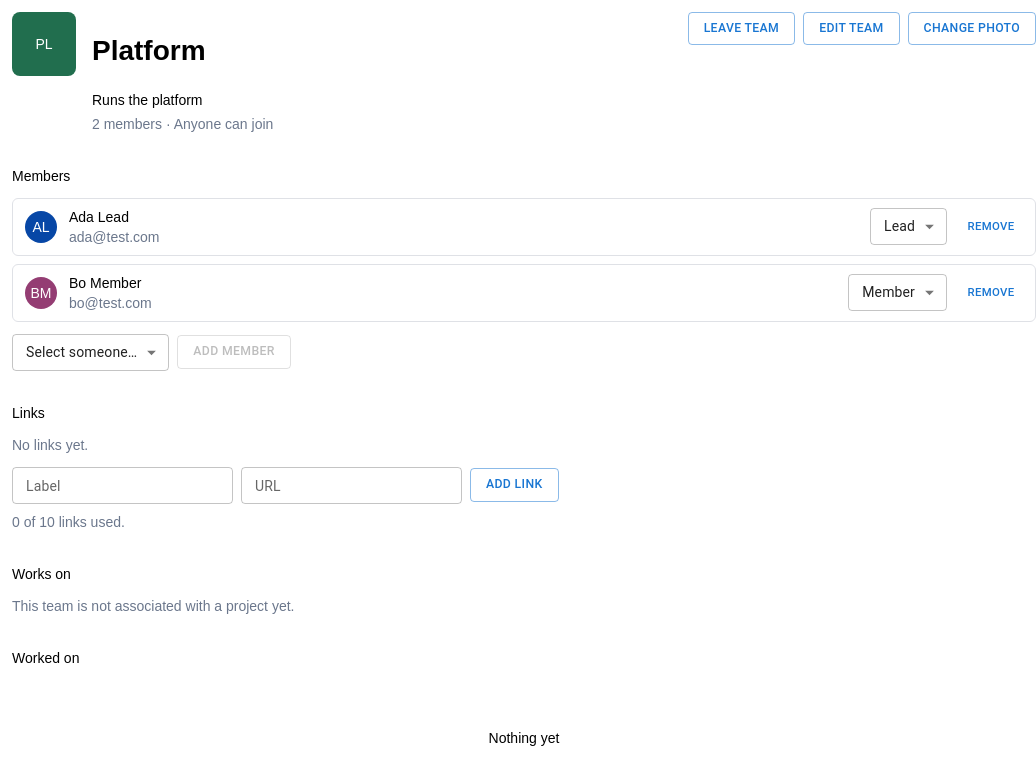
JL-434 — links, the cap and URL sanitisation › surfaces the server 409 if the cap is hit anyway, rather than swallowing it
Type "x" into the field labelled "Label" at (122, 485), box [12, 467, 233, 504]
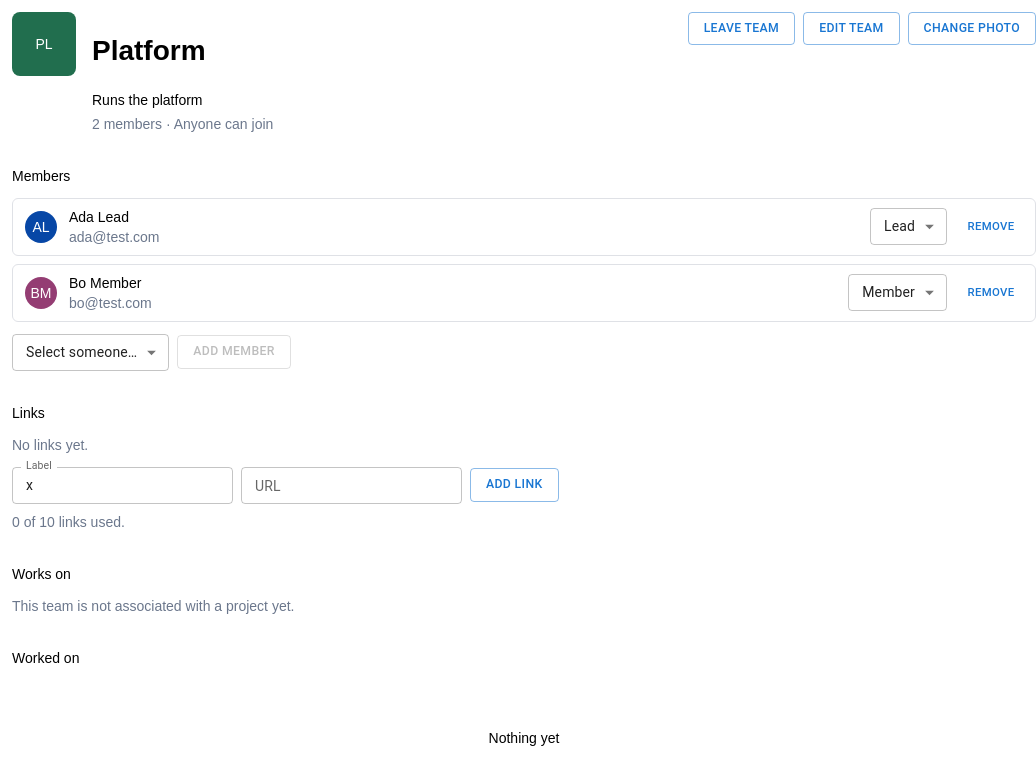
Type "https://a.test" into the field labelled "URL" at (352, 485), box [241, 467, 462, 504]
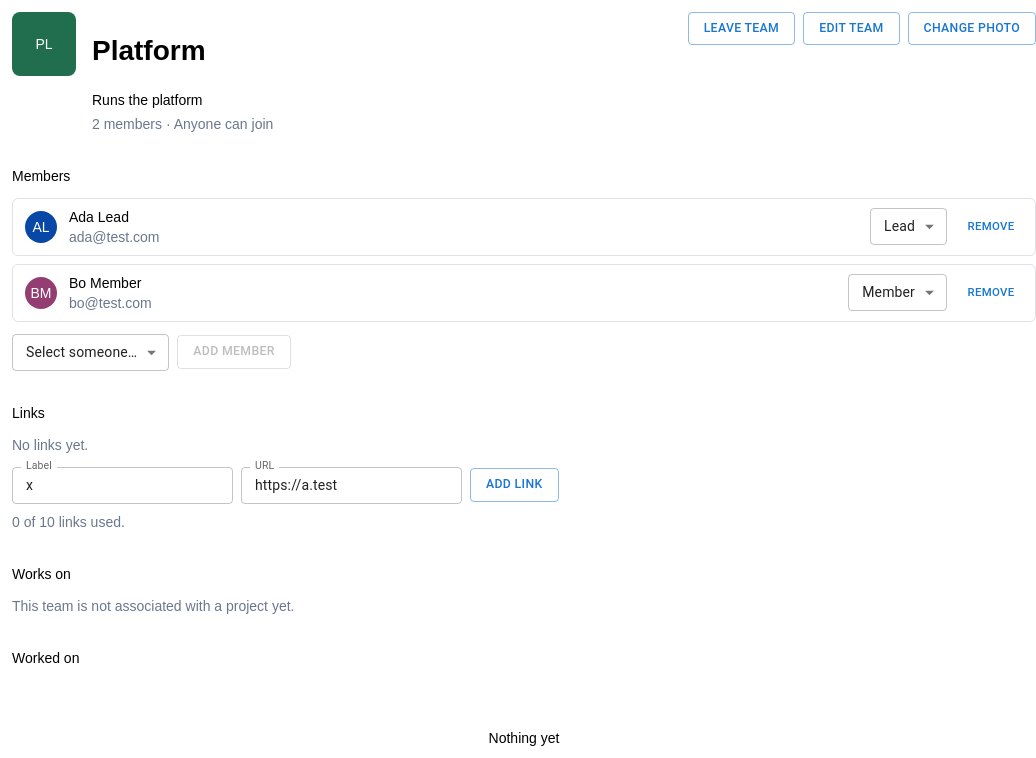
Click the button "Add link" at (514, 485), box [470, 468, 558, 502]
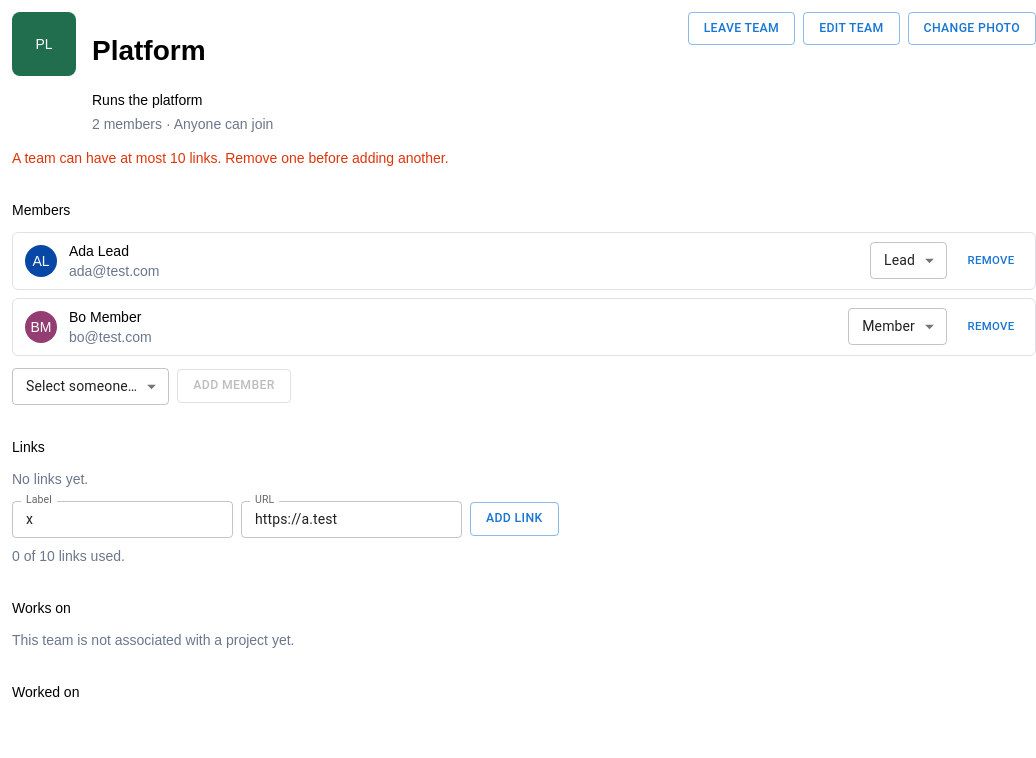
Now the message "A team can have at most 10 links. Remove one before adding another." is shown, box [12, 150, 449, 166]
